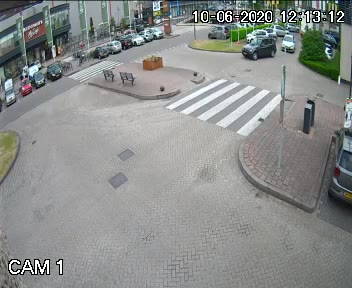car: (240, 31, 274, 58), (281, 31, 295, 52)
